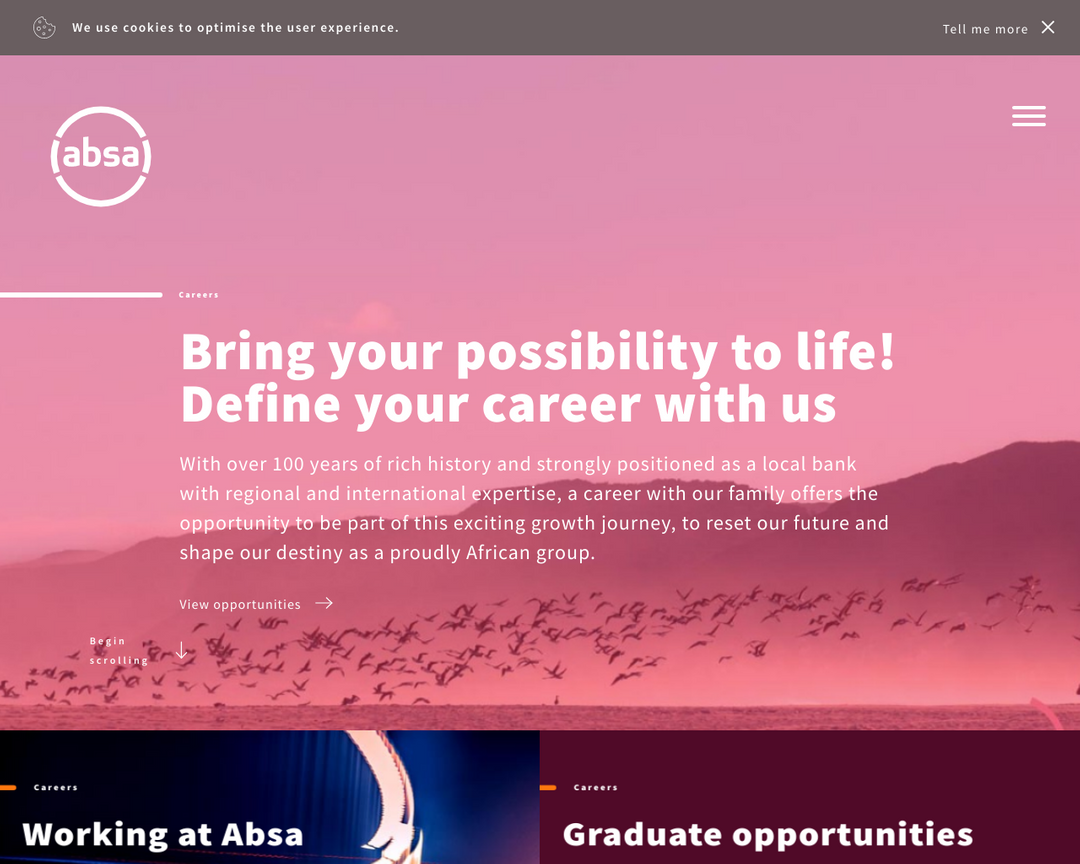ABSA: (45, 100, 157, 214)
